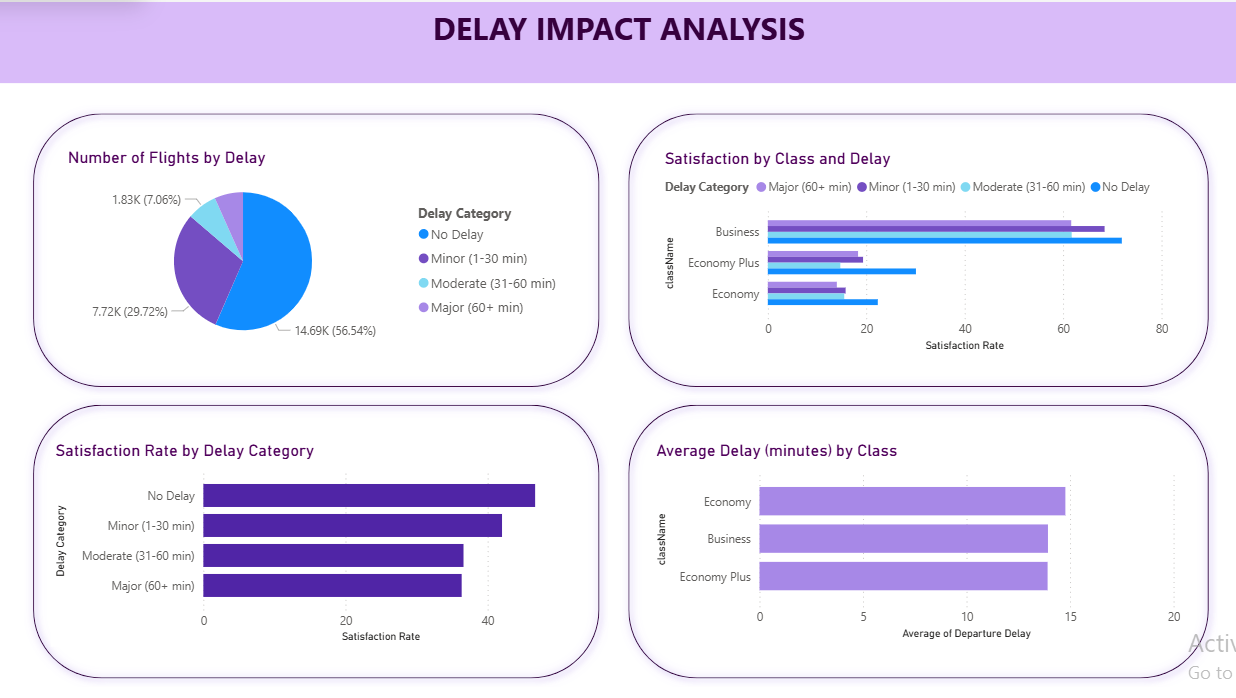

The dashboard page shown, as its layout file describes it:
{"tool":"powerbi","page":{"name":"Page 4","canvas":[1280,720],"ordinal":3},"visuals":[{"type":"shape","box":[640.3,406.5,616.1,300],"z":0},{"type":"shape","box":[27.4,406.5,601.6,300],"z":1000},{"type":"shape","box":[27.4,106.5,601.6,300],"z":2000},{"type":"shape","box":[640.3,106.5,616.1,300],"z":3000},{"type":"clusteredBarChart","fields":{"Category":["cleaned_airline_data.Delay Category"],"Y":["cleaned_airline_data.Satisfaction Rate"]},"box":[54.8,451.6,535.5,212.9],"z":4000},{"type":"pieChart","title":"Number of Flights by Delay","fields":{"Category":["cleaned_airline_data.Delay Category"],"Y":["CountNonNull(cleaned_airline_data.id)"]},"box":[67.7,150,522.6,214.5],"z":5000},{"type":"clusteredBarChart","title":"Average Delay (minutes) by Class","fields":{"Category":["cleaned_airline_data.className"],"Y":["Avg(cleaned_airline_data.departure_delay_in_minutes)"]},"box":[674.2,451.6,550,209.7],"z":6000},{"type":"clusteredBarChart","title":"Satisfaction by Class and Delay","fields":{"Category":["cleaned_airline_data.className"],"Y":["cleaned_airline_data.Satisfaction Rate"],"Series":["cleaned_airline_data.Delay Category"]},"box":[682.3,151.6,529,212.9],"z":7000},{"type":"textbox","box":[0,0,1280,83.3],"z":8000}]}

Visuals, with their boxes in screenshot pixels (x1, y1, x2, y2), scaled from the page's 1280x720 canvas onto the 1236x698 screenshot:
shape: box=[618, 394, 1213, 685]
shape: box=[26, 394, 607, 685]
shape: box=[26, 103, 607, 394]
shape: box=[618, 103, 1213, 394]
clusteredBarChart - cleaned_airline_data.Delay Category x cleaned_airline_data.Satisfaction Rate: box=[53, 438, 570, 644]
"Number of Flights by Delay" pieChart: box=[65, 145, 570, 353]
"Average Delay (minutes) by Class" clusteredBarChart: box=[651, 438, 1182, 641]
"Satisfaction by Class and Delay" clusteredBarChart: box=[659, 147, 1170, 353]
textbox: box=[0, 0, 1235, 81]
